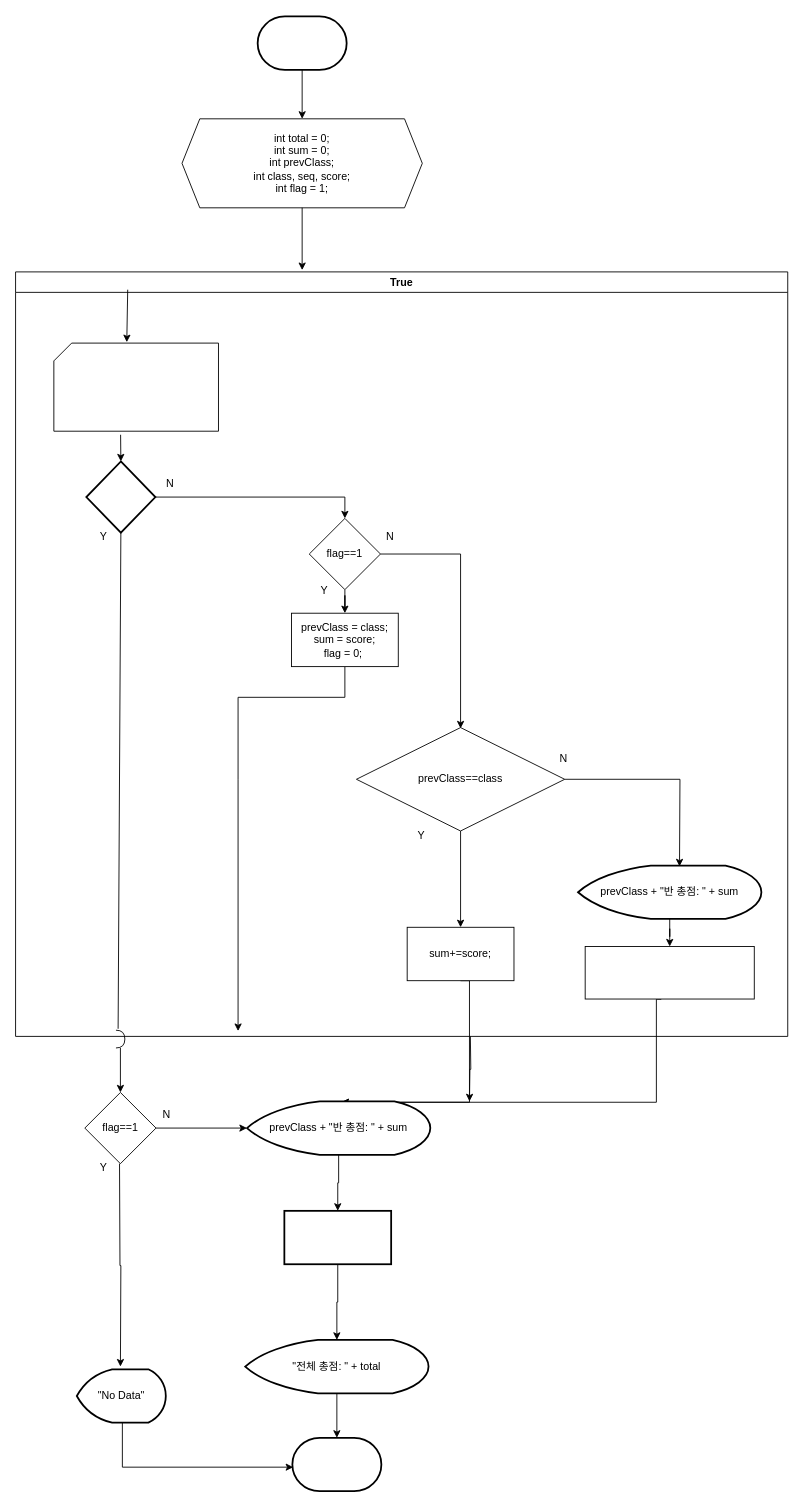
Some shapes in this 804 by 1507 pixel diagram are drawn without their labels. The shapes that lost their labels are listed below. From the top down, each one's centre as x and y in pixels, then its label:
the point at 301,42: START
the point at 135,386: class ,seq ,score
the point at 120,496: EOF
the point at 669,972: total += sum; sum = score; prevClass = class;
the point at 337,1237: total += sum;
the point at 336,1464: END
